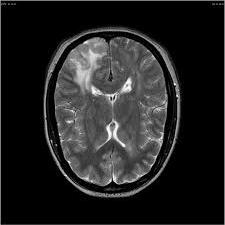Normal_Brain: (21, 3, 201, 225)
